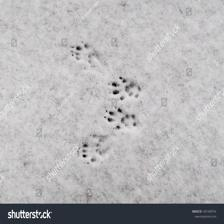squirrel: (99, 105, 145, 135), (108, 77, 147, 103)
